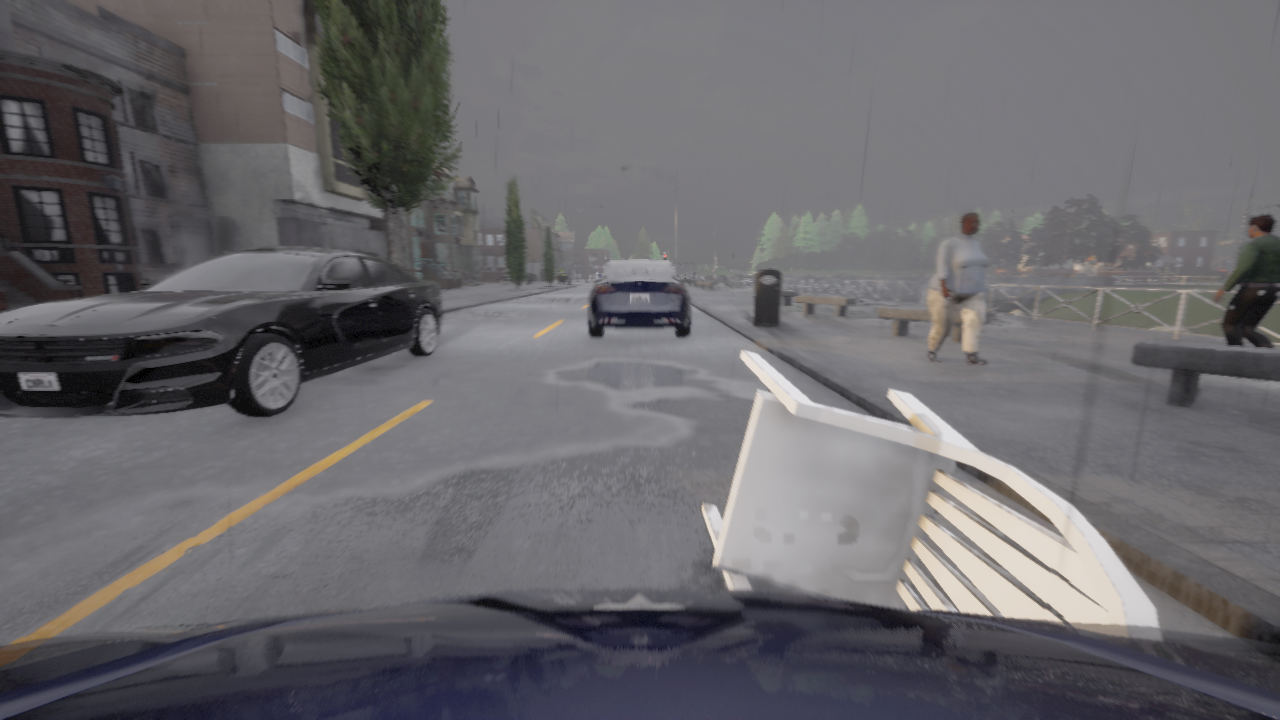cyclist: (0, 588, 1279, 719), (0, 247, 443, 417), (588, 260, 691, 336), (497, 272, 537, 283)
pedestrian: (927, 212, 990, 364), (1214, 214, 1279, 348)
